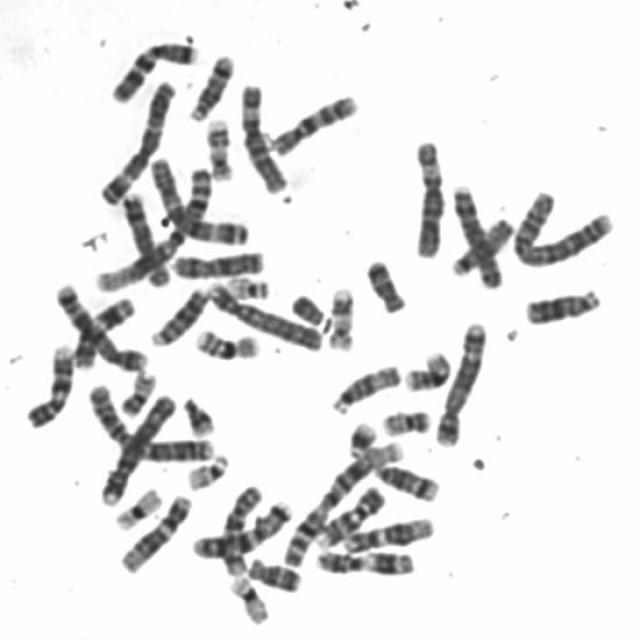A1: (279, 436, 406, 570), (92, 162, 216, 296)
A2: (85, 380, 215, 464), (508, 186, 616, 269)
A3: (95, 75, 177, 207), (148, 153, 249, 247)
B4: (96, 389, 177, 507), (204, 278, 324, 352)
B5: (51, 280, 148, 373), (432, 318, 488, 448)
C10: (265, 90, 361, 158), (218, 484, 263, 576)
C11: (70, 293, 136, 369), (311, 547, 415, 578)
C12: (116, 491, 194, 575), (339, 513, 435, 555)
C6: (236, 78, 290, 195), (407, 136, 447, 264)
C7: (189, 496, 293, 560), (107, 36, 199, 106)
C8: (449, 181, 504, 291), (119, 188, 172, 287)
C9: (311, 482, 386, 550), (22, 340, 75, 429)
D13: (146, 284, 210, 348), (520, 286, 603, 326)
D14: (185, 51, 235, 122), (370, 458, 441, 503)
D15: (446, 214, 516, 278), (327, 361, 403, 415)
E16: (190, 326, 260, 361), (400, 347, 453, 393)
E17: (202, 114, 234, 184), (324, 283, 356, 353)
E18: (362, 256, 407, 316), (245, 555, 302, 593)
F19: (226, 570, 270, 626), (110, 484, 163, 530)
F20: (116, 368, 160, 418), (379, 406, 432, 438)
G21: (180, 393, 217, 438), (343, 418, 378, 461)
G22: (184, 450, 230, 490), (224, 272, 274, 301)
X: (169, 247, 265, 280)
Y: (288, 291, 326, 327)
